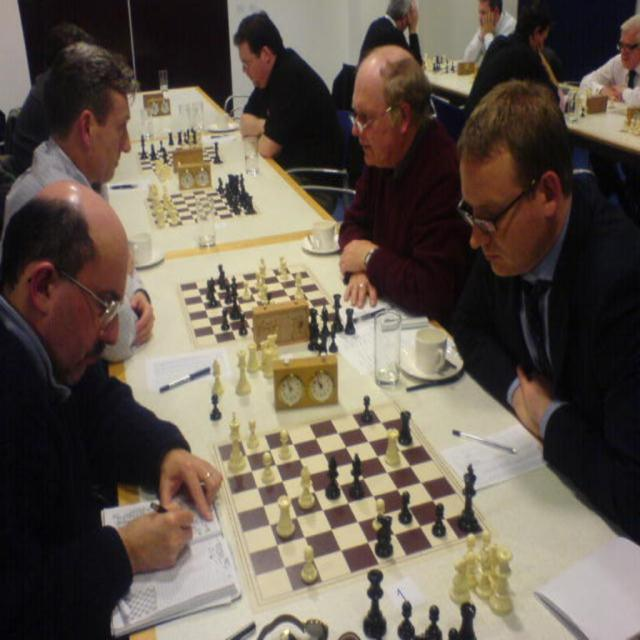Table: (127, 80, 639, 639), (108, 82, 335, 270), (428, 67, 636, 153)
